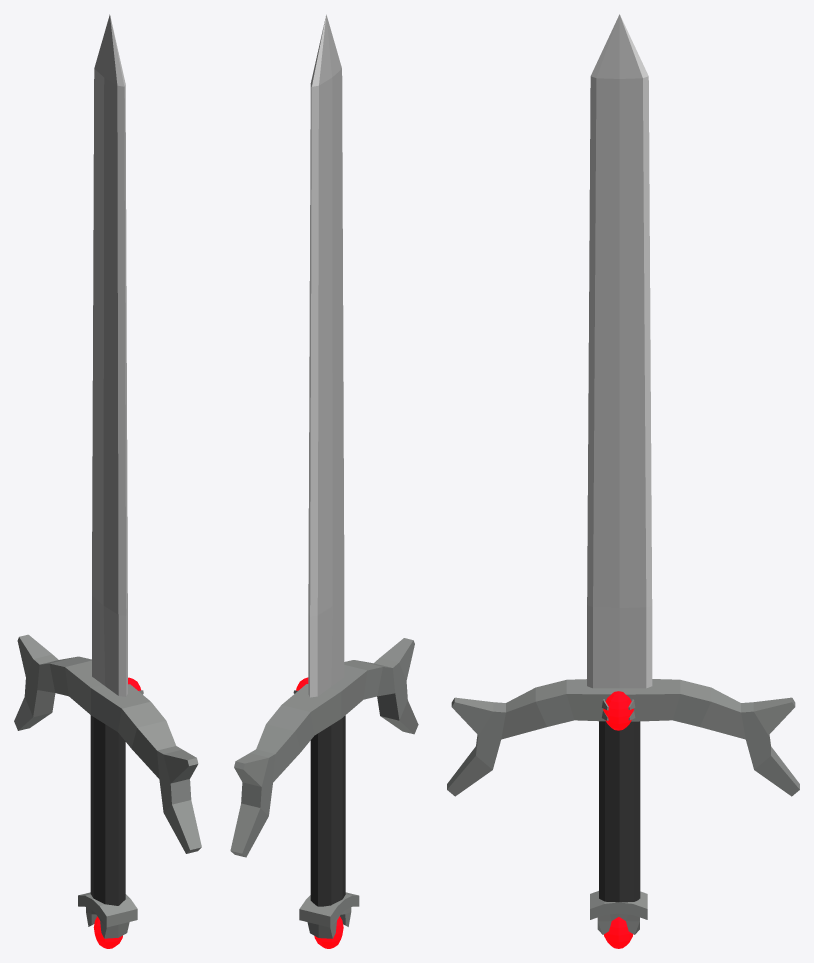
Rendered from Sword2.glb.
3 renders of one model, left to right at view 1: azimuth 30°, elevation 25°; view 2: azimuth 150°, elevation 25°; view 3: azimuth 270°, elevation 25°, orthographic.
Parts seen in each view (by area): view 1: Sword2; view 2: Sword2; view 3: Sword2.
Boxes of the visible parts, x1,y1,x2,y2 form: Sword2: [14, 14, 201, 948]; Sword2: [230, 14, 418, 948]; Sword2: [447, 14, 799, 948].
Size of the model in its own units: 672 by 12238 by 4188.
